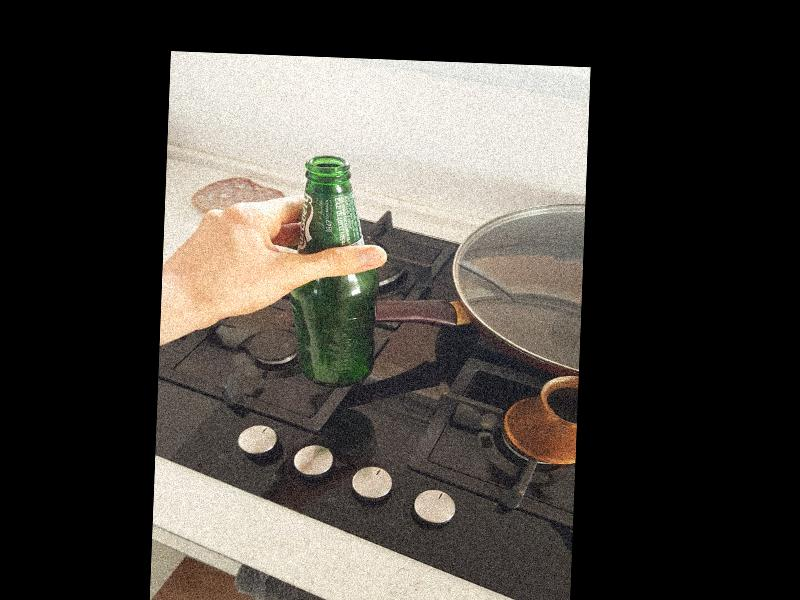Beer: (295, 157, 381, 388)
